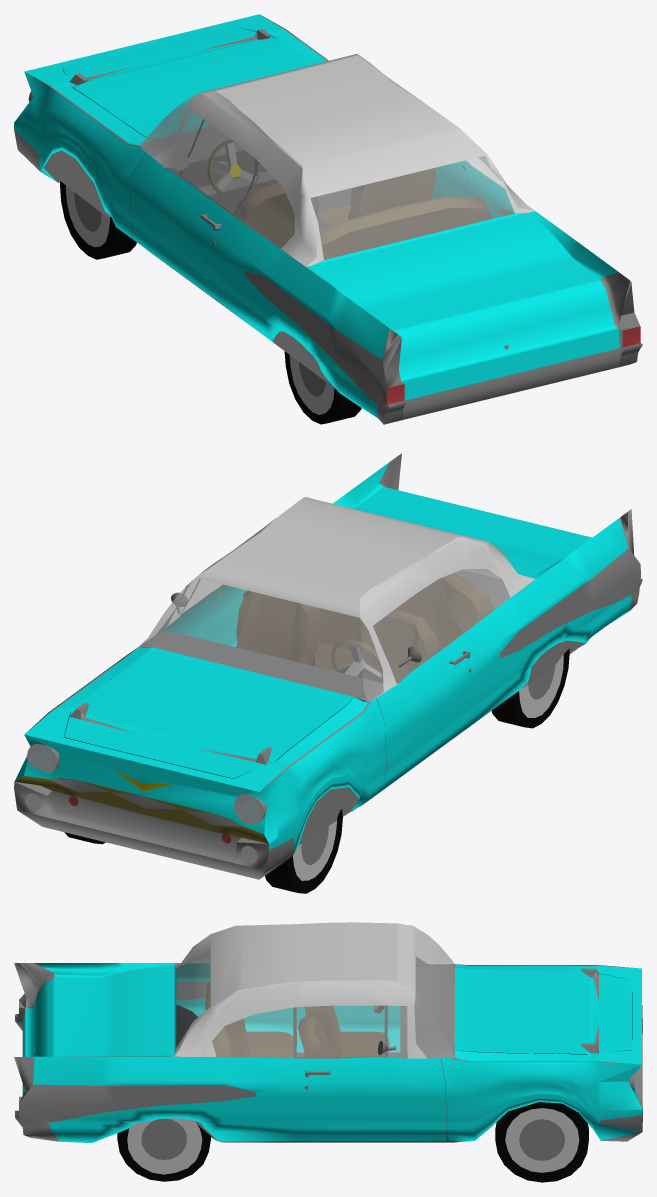
File: car.fbx
The picture shows the model from 3 angles, top to bottom: view 1: azimuth 30°, elevation 25°; view 2: azimuth 150°, elevation 25°; view 3: azimuth 270°, elevation 25°; orthographic projection. The views are drawn at different scales.
Parts seen in each view (by area): view 1: passenger_lock, front_axel_and_tires1Shape; view 2: passenger_lock, front_axel_and_tires1Shape; view 3: passenger_lock, front_axel_and_tires1Shape.
Boxes of the visible parts, <box> form: passenger_lock: <box>14,14,642,424</box>; front_axel_and_tires1Shape: <box>60,181,361,424</box>; passenger_lock: <box>14,453,642,879</box>; front_axel_and_tires1Shape: <box>64,649,569,893</box>; passenger_lock: <box>14,922,642,1143</box>; front_axel_and_tires1Shape: <box>117,1005,588,1182</box>.
Bounding box in the file's own units: 6.3 × 5.11 × 15.88.
